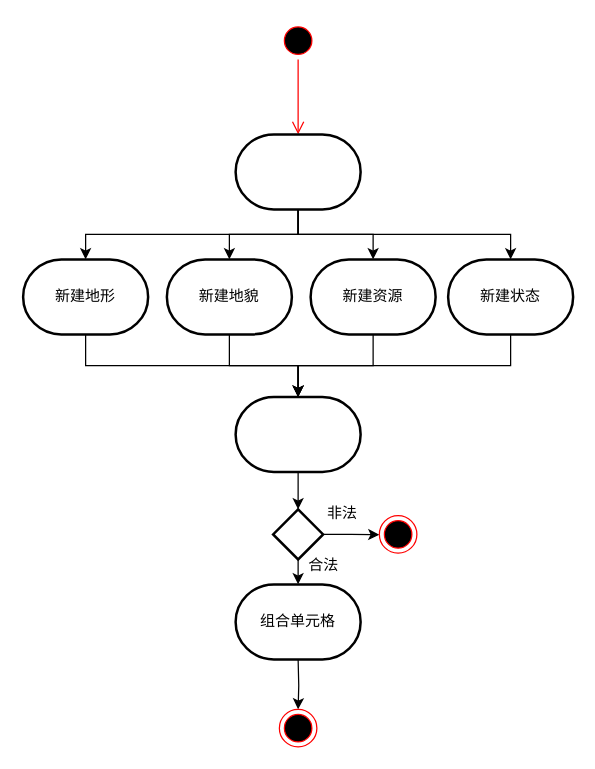
Some shapes in this 595 by 769 pixel diagram are drawn without their labels. Each missing label, with the centre of its shape:
"新建单元格" belongs at (x=297, y=171).
"检查合法性" belongs at (x=297, y=433).
